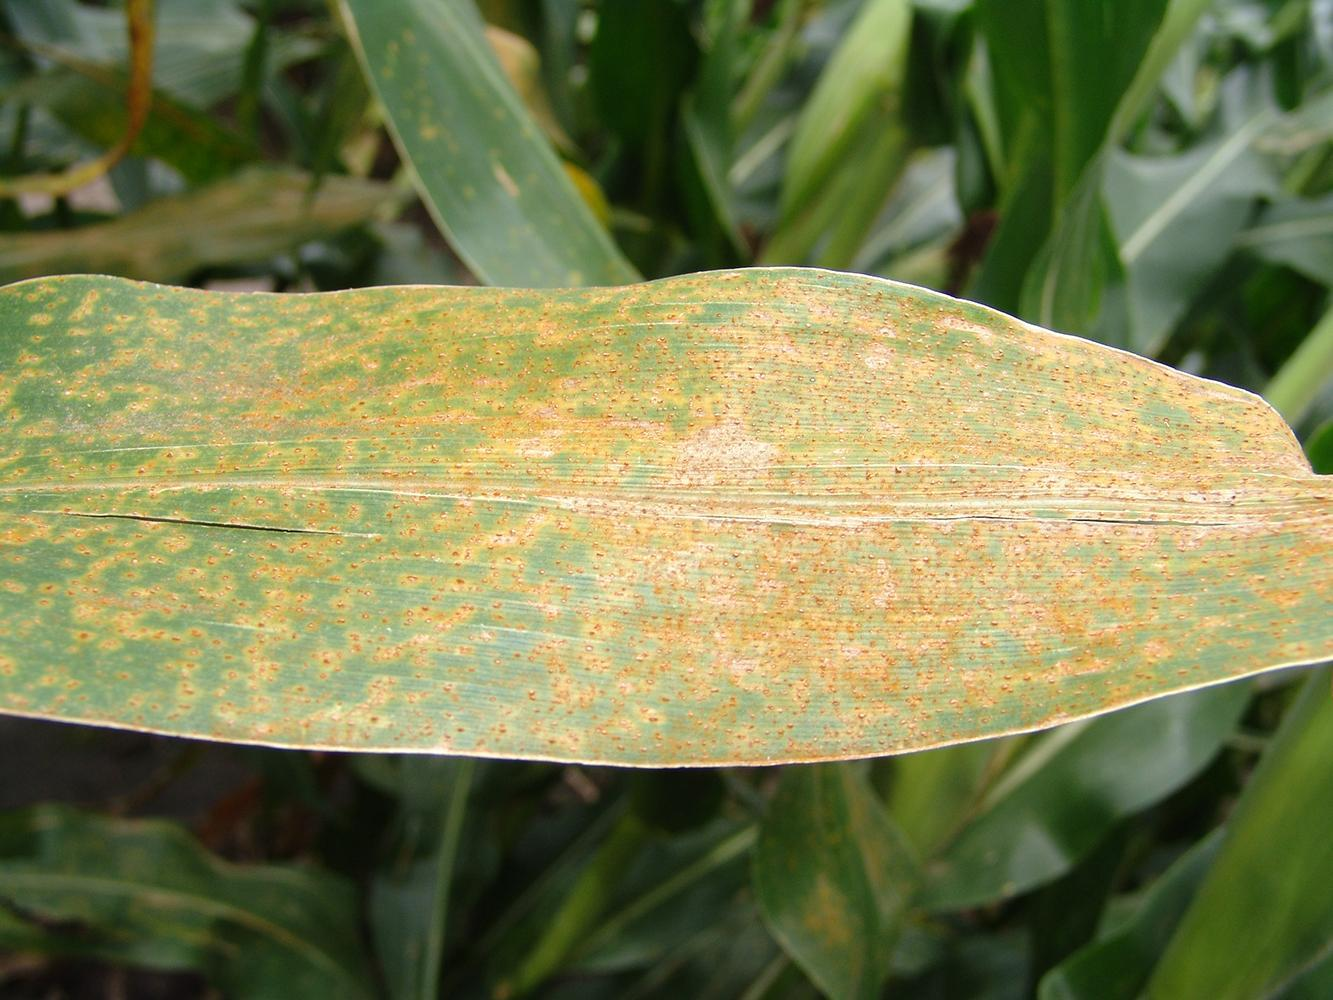Corn_Common_Rust: (0, 223, 1333, 782), (308, 0, 621, 217), (0, 811, 372, 988), (709, 773, 950, 1000), (378, 82, 394, 88)
